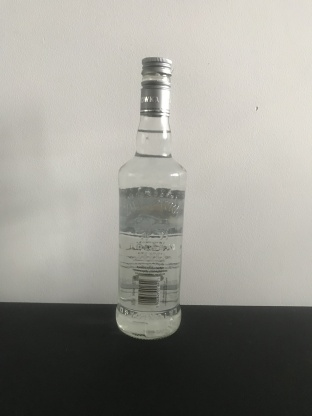nakretka: (138, 55, 173, 118)
